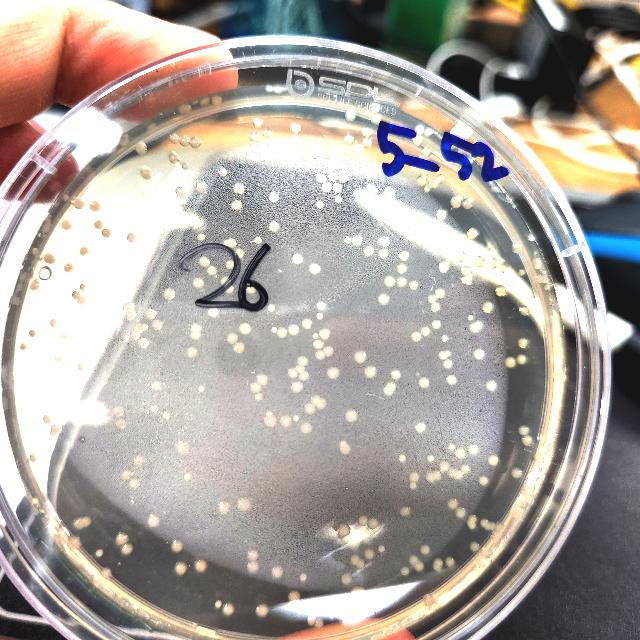colony: (338, 521, 352, 539), (194, 558, 208, 574), (174, 561, 188, 577), (42, 251, 58, 265), (288, 588, 302, 602), (237, 496, 251, 510), (116, 532, 130, 546), (67, 535, 81, 549), (88, 198, 102, 212), (140, 166, 154, 180), (256, 602, 268, 618), (423, 592, 435, 608), (148, 512, 160, 528), (247, 560, 260, 574), (346, 408, 358, 422), (280, 414, 292, 428), (218, 500, 230, 514), (382, 186, 396, 198), (238, 322, 252, 334), (223, 602, 235, 616), (171, 539, 183, 553), (121, 542, 133, 556), (100, 566, 112, 580), (115, 417, 127, 431), (74, 196, 86, 210), (118, 132, 130, 146), (555, 368, 567, 382), (404, 227, 416, 240), (227, 332, 240, 344), (177, 442, 190, 454), (196, 180, 208, 193), (451, 194, 462, 208), (178, 104, 192, 115), (418, 377, 430, 389), (256, 374, 268, 386), (291, 381, 303, 393), (354, 351, 366, 363), (365, 366, 377, 378), (378, 293, 390, 305), (504, 356, 516, 368), (447, 497, 459, 509), (455, 506, 467, 518), (494, 285, 506, 297), (309, 262, 321, 274), (319, 328, 331, 340), (288, 324, 300, 336), (233, 341, 245, 353), (512, 508, 524, 520), (42, 413, 54, 425), (134, 453, 146, 465), (146, 308, 158, 320), (163, 288, 175, 300), (63, 262, 75, 274), (136, 142, 148, 154), (10, 295, 22, 307), (150, 318, 163, 329), (272, 564, 282, 578), (512, 240, 522, 254), (346, 108, 356, 122), (224, 238, 238, 248), (533, 256, 543, 270), (74, 517, 84, 531), (60, 220, 74, 230), (14, 282, 24, 296), (18, 270, 28, 284), (41, 221, 51, 235), (304, 402, 316, 413), (447, 374, 458, 386), (438, 260, 449, 272), (397, 262, 408, 274), (467, 227, 478, 239), (497, 262, 508, 274), (379, 236, 391, 247), (367, 183, 378, 195), (233, 183, 244, 195), (121, 468, 133, 479), (186, 347, 198, 358), (176, 186, 187, 198), (328, 366, 338, 379), (391, 368, 402, 379), (371, 114, 382, 125), (416, 422, 426, 434), (250, 382, 262, 392), (264, 416, 276, 426), (300, 422, 312, 432), (474, 348, 484, 360), (483, 301, 493, 313), (384, 276, 396, 286), (486, 380, 496, 392), (488, 454, 498, 466), (439, 460, 449, 472), (358, 514, 368, 526), (342, 573, 352, 585), (248, 550, 260, 560), (446, 555, 456, 567), (470, 540, 480, 552), (512, 467, 522, 479), (462, 274, 472, 286), (457, 251, 467, 263), (474, 256, 484, 268), (488, 258, 498, 270), (462, 198, 472, 210), (352, 235, 362, 247), (310, 148, 322, 158), (369, 164, 381, 174), (365, 170, 377, 180), (290, 124, 302, 134), (249, 142, 261, 152), (270, 220, 280, 232), (276, 327, 288, 337), (208, 307, 220, 317), (206, 266, 218, 276), (231, 200, 243, 210), (306, 614, 316, 626), (314, 616, 324, 628), (200, 96, 212, 106), (130, 479, 142, 489), (113, 406, 125, 416), (60, 330, 70, 342), (190, 323, 202, 333), (137, 338, 149, 348), (123, 302, 135, 312), (170, 152, 180, 164), (180, 135, 190, 147), (520, 484, 532, 494), (274, 87, 288, 95), (316, 398, 326, 409), (411, 332, 422, 342), (398, 251, 409, 261), (437, 210, 448, 220), (416, 176, 426, 187), (292, 253, 302, 264), (302, 317, 312, 328), (213, 95, 223, 106), (152, 381, 162, 392), (193, 278, 204, 288), (312, 339, 324, 348), (469, 322, 478, 334), (479, 546, 488, 558), (427, 471, 435, 484), (455, 448, 465, 458), (311, 394, 321, 404), (341, 444, 351, 454), (299, 370, 309, 380), (287, 368, 297, 378), (295, 364, 305, 374), (298, 356, 308, 366), (323, 346, 333, 356), (315, 350, 325, 360), (420, 326, 430, 336), (474, 320, 484, 330), (431, 302, 441, 312), (409, 280, 419, 290), (516, 354, 526, 364), (518, 338, 528, 348), (519, 426, 529, 436), (522, 435, 532, 445), (468, 444, 478, 454), (460, 464, 470, 474), (409, 471, 419, 481), (466, 519, 476, 529), (400, 506, 410, 516), (368, 518, 378, 528), (350, 555, 360, 565), (355, 558, 365, 568), (364, 549, 374, 559), (400, 566, 410, 576), (420, 544, 430, 554), (409, 554, 419, 564), (414, 560, 424, 570), (432, 562, 442, 572), (519, 306, 529, 316), (462, 265, 472, 275), (429, 179, 439, 189), (378, 249, 388, 259), (364, 246, 374, 256), (332, 182, 342, 192), (322, 182, 332, 192), (338, 172, 348, 182), (344, 134, 354, 144), (362, 128, 372, 138), (362, 138, 372, 148), (292, 136, 302, 146), (267, 139, 277, 149), (254, 118, 264, 128), (250, 133, 260, 143), (276, 149, 286, 159), (269, 192, 279, 202), (235, 248, 245, 258), (200, 256, 210, 266), (414, 124, 424, 134), (424, 128, 434, 138), (414, 136, 424, 146), (342, 617, 352, 627), (54, 352, 64, 362), (50, 318, 60, 328), (191, 331, 201, 341), (131, 330, 141, 340), (78, 296, 88, 306), (80, 247, 90, 257), (102, 228, 112, 238), (128, 232, 138, 242), (190, 138, 200, 148), (170, 134, 180, 144), (434, 174, 446, 182), (484, 520, 492, 532), (496, 520, 504, 532), (443, 358, 452, 368), (428, 293, 437, 303), (433, 470, 442, 480), (448, 468, 457, 478), (433, 556, 442, 566), (328, 172, 337, 182), (322, 158, 331, 168), (82, 516, 91, 526), (29, 453, 38, 463), (52, 423, 62, 432), (133, 323, 143, 332), (126, 312, 136, 321), (352, 586, 366, 592), (388, 382, 397, 391), (427, 454, 435, 464), (438, 350, 446, 360), (436, 288, 444, 298), (455, 470, 463, 480), (316, 175, 326, 183), (354, 144, 364, 152), (316, 302, 326, 310), (226, 284, 234, 294), (226, 260, 234, 270), (221, 275, 229, 285), (422, 148, 432, 156), (528, 232, 536, 242), (184, 471, 192, 481), (162, 410, 170, 420), (28, 330, 38, 338), (73, 290, 81, 300), (30, 282, 40, 290), (146, 122, 156, 130), (43, 214, 53, 222), (542, 274, 550, 284), (383, 387, 392, 395), (432, 320, 441, 328), (398, 278, 407, 286), (247, 286, 256, 294), (32, 247, 40, 256), (491, 185, 501, 192), (398, 455, 406, 463), (409, 481, 417, 489), (479, 476, 487, 484), (469, 514, 477, 522), (479, 518, 487, 526), (299, 573, 307, 581), (517, 268, 525, 276), (344, 236, 352, 244), (316, 200, 324, 208), (334, 160, 342, 168), (362, 156, 370, 164), (263, 129, 271, 137), (251, 153, 259, 161), (316, 312, 324, 320), (255, 236, 263, 244), (219, 168, 227, 176), (96, 549, 104, 557), (151, 405, 159, 413), (77, 363, 85, 371), (19, 343, 27, 351), (198, 385, 206, 393), (141, 323, 149, 331), (96, 220, 104, 228), (181, 162, 189, 170), (62, 194, 70, 202), (198, 233, 206, 241), (266, 84, 274, 92), (528, 290, 534, 300), (215, 598, 221, 608), (490, 521, 496, 531), (536, 274, 542, 284), (255, 393, 262, 401), (424, 185, 431, 193), (449, 443, 455, 451), (293, 413, 299, 421), (313, 332, 319, 340), (442, 334, 448, 342), (467, 313, 473, 321), (379, 544, 385, 552), (336, 195, 342, 203), (271, 326, 277, 334), (268, 304, 274, 312), (122, 335, 130, 341), (32, 278, 40, 284), (51, 431, 58, 437), (266, 410, 272, 416), (340, 440, 346, 446), (80, 284, 86, 290), (54, 201, 60, 207), (544, 284, 550, 290), (330, 161, 334, 169), (446, 349, 450, 356), (416, 372, 420, 376), (330, 613, 332, 619), (510, 283, 512, 287)
